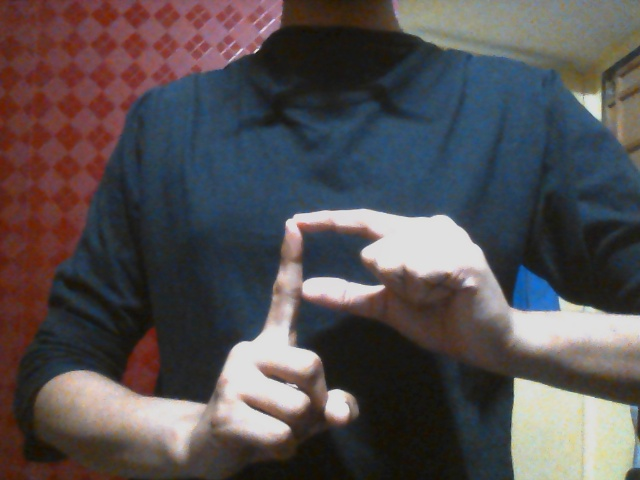P: (208, 206, 504, 470)
